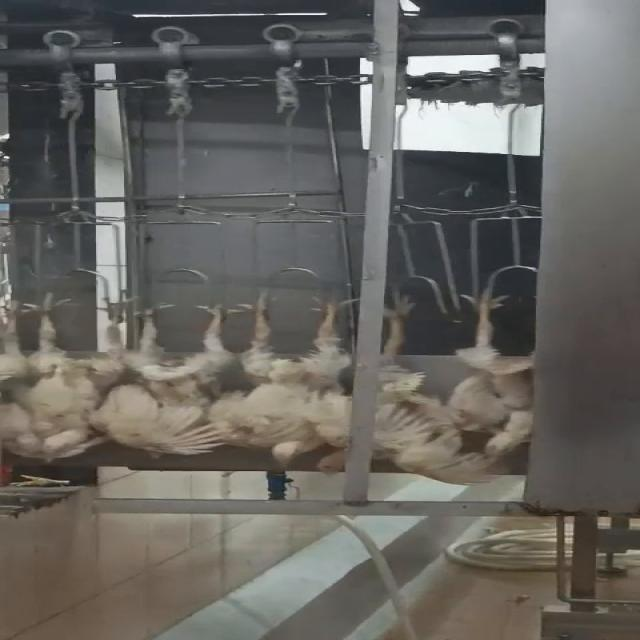chicken: (89, 294, 267, 463), (304, 286, 448, 482), (217, 280, 357, 472), (0, 286, 147, 464), (439, 279, 547, 458)
